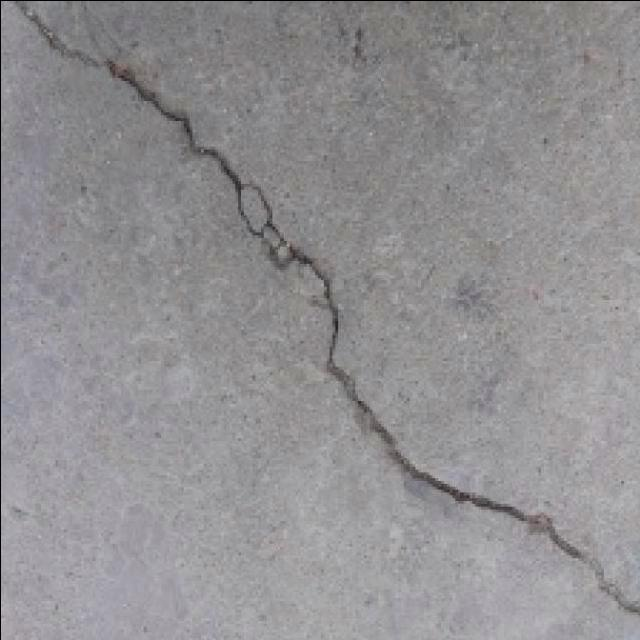SurfaceCrack: (0, 8, 636, 622)
